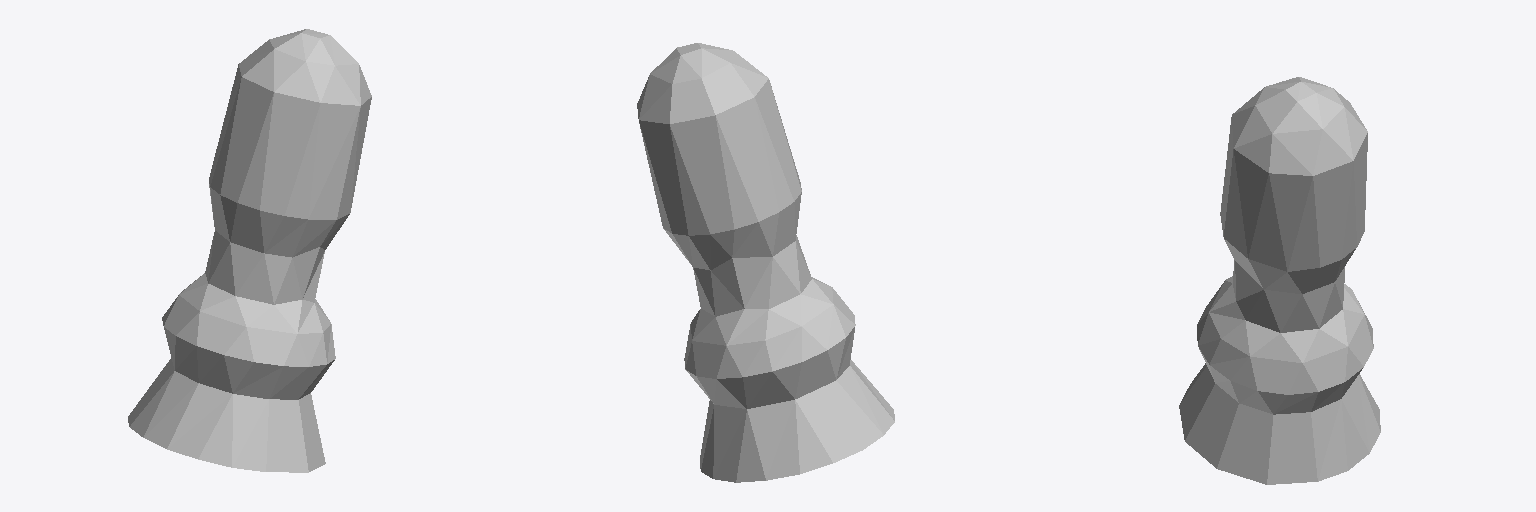
Rendered from light_9.obj.
The picture shows the model from 3 angles: view 1: azimuth 30°, elevation 25°; view 2: azimuth 150°, elevation 25°; view 3: azimuth 270°, elevation 25°; orthographic projection.
Parts seen in each view (by area): view 1: Cylinder001.008_Untitled.017; view 2: Cylinder001.008_Untitled.017; view 3: Cylinder001.008_Untitled.017.
Boxes of the visible parts, <box> form: Cylinder001.008_Untitled.017: <box>128,29,371,472</box>; Cylinder001.008_Untitled.017: <box>637,43,894,482</box>; Cylinder001.008_Untitled.017: <box>1179,77,1380,484</box>.
Bounding box in the file's own units: 0.304 × 0.5121 × 0.2321.